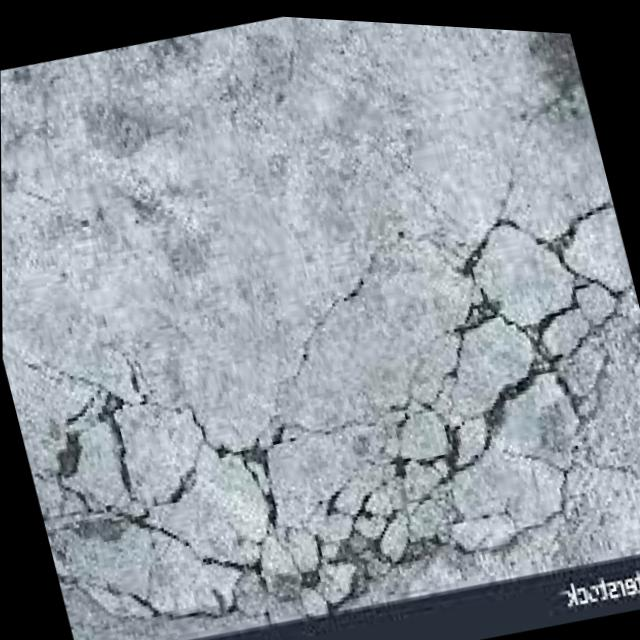Crack: (99, 371, 480, 640), (405, 170, 640, 483), (19, 357, 233, 640)
